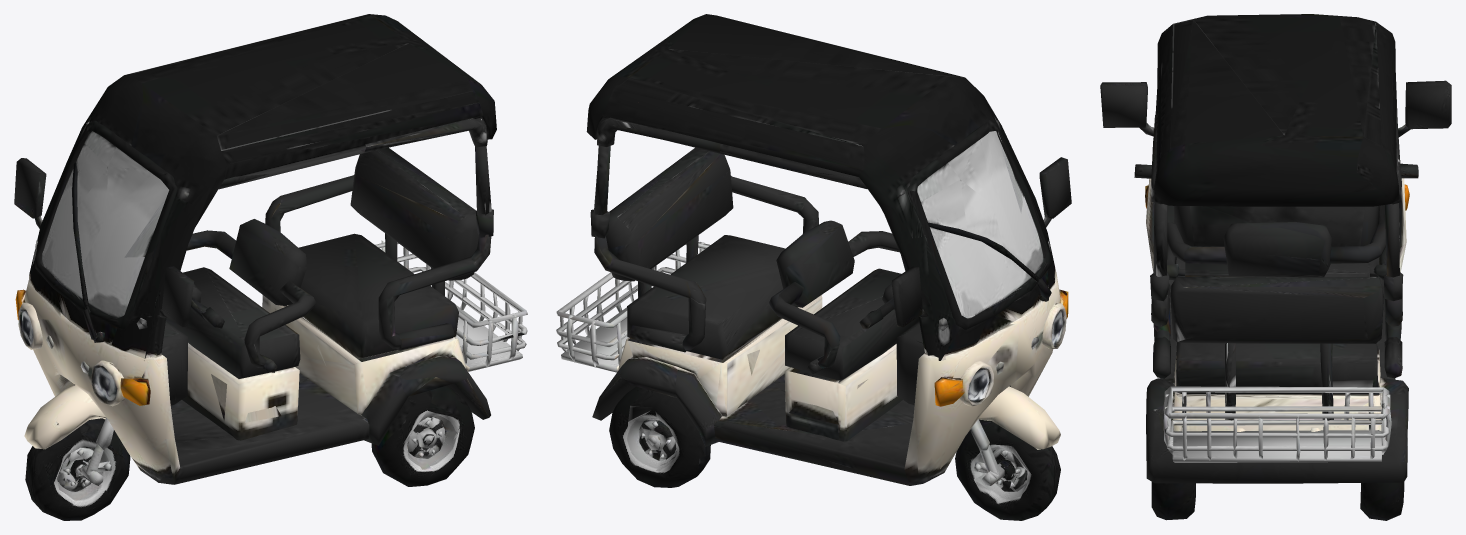
The model's file is ebike.glb.
The picture shows the model from 3 angles, left to right: view 1: azimuth 30°, elevation 25°; view 2: azimuth 150°, elevation 25°; view 3: azimuth 270°, elevation 25°; orthographic projection. The views are drawn at different scales.
Visible parts, largest first — view 1: Mesh0; view 2: Mesh0; view 3: Mesh0.
Part boxes in pixels (left/top/right/bottom): Mesh0: left=14, top=14, right=527, bottom=520; Mesh0: left=556, top=14, right=1071, bottom=520; Mesh0: left=1100, top=14, right=1451, bottom=520.
Bounding box in the file's own units: 1 × 0.8379 × 0.6665.
Materials: 1 (1 with a texture image).
